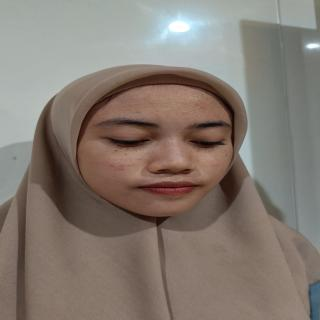Sedih: (77, 72, 246, 226)
